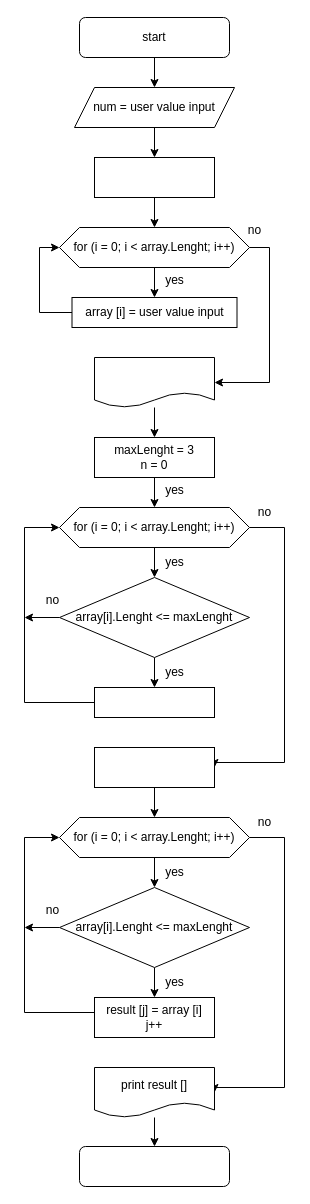
Some shapes in this 310 by 1204 pixel diagram are drawn without their labels. The centre of each missing label's shape, as x and y in pixels:
"end" belongs at point (154, 1166).
"n++" belongs at point (154, 702).
"new array [num]" belongs at point (154, 177).
"new result [n] j = 0" belongs at point (154, 767).
"print array []" belongs at point (154, 382).
